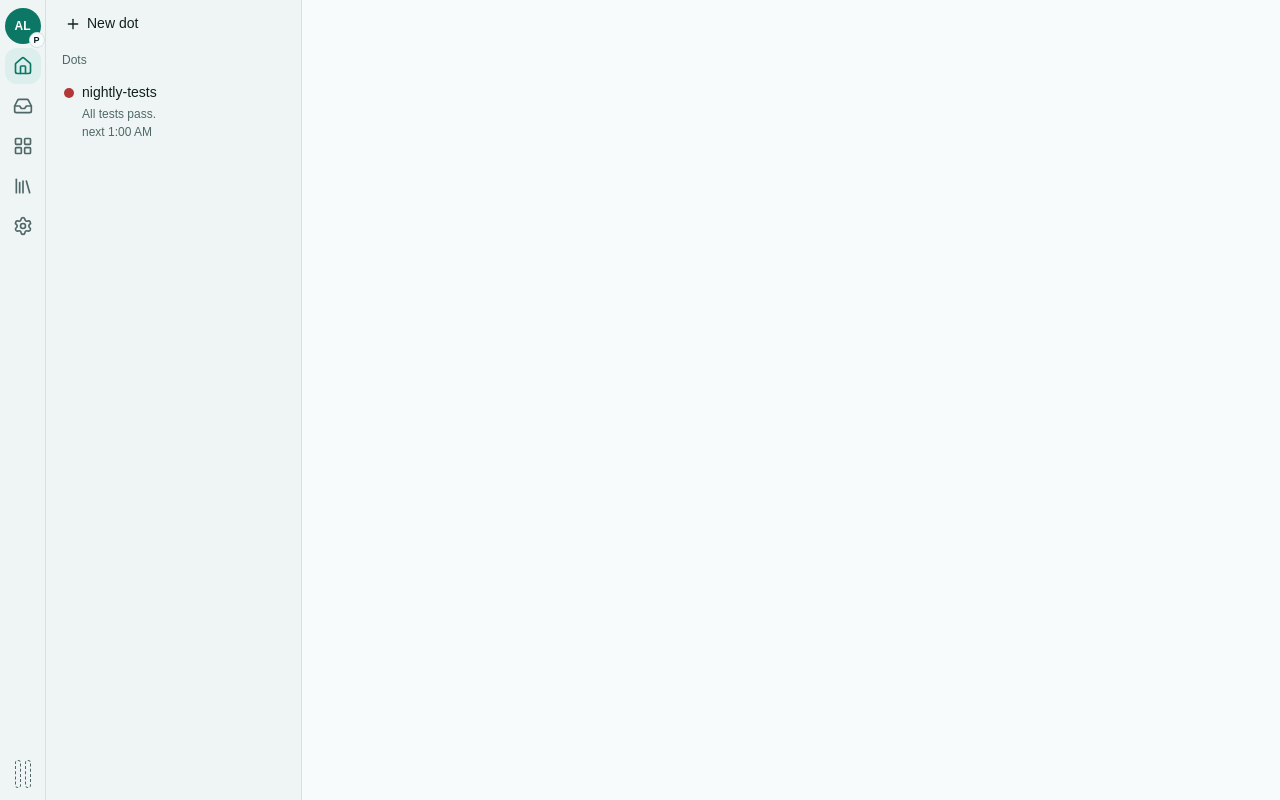
Scenario: the account switcher › lists Personal and the joined accounts
Click the button with aria-label "Account:" at [22, 26], box [4,8,40,44]
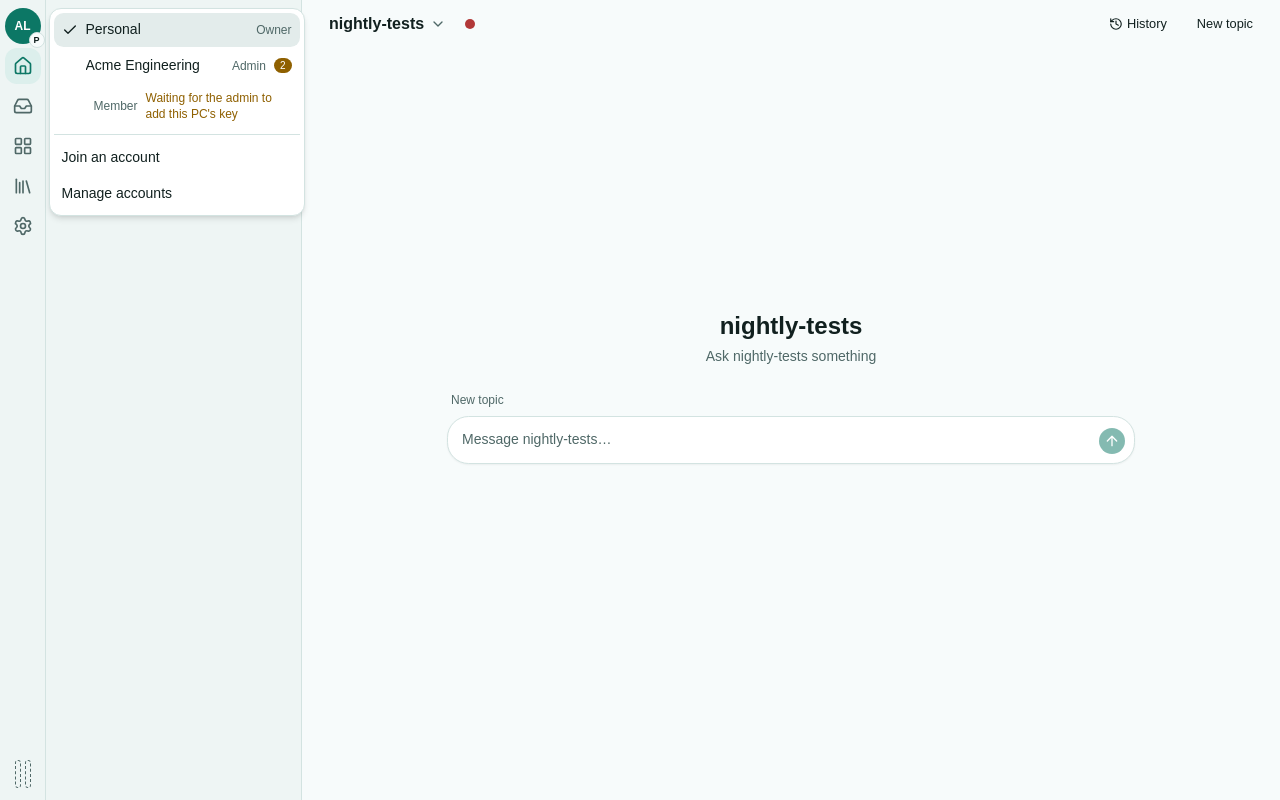
expect the menu item "Personal Owner" is shown: met, box [54,13,300,47]
expect the menu item "Acme Engineering Admin 2" is shown: met, box [54,49,300,82]
expect the menu item "Join an account" is shown: met, box [54,141,300,175]
